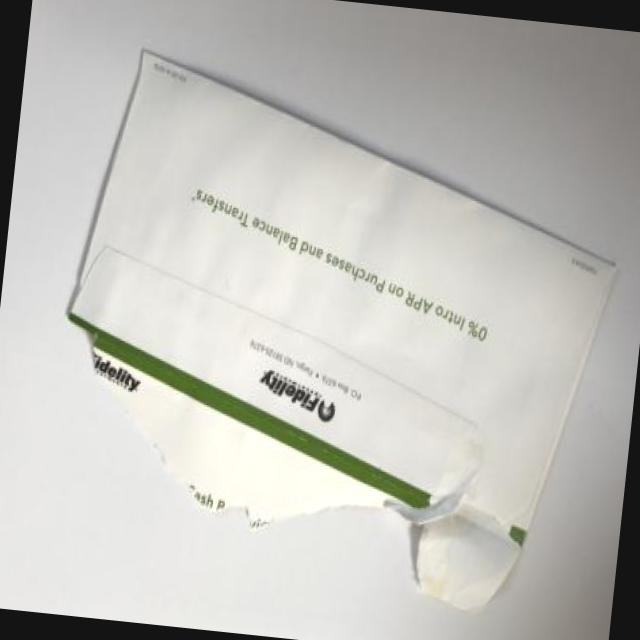giay: (64, 47, 617, 615)
